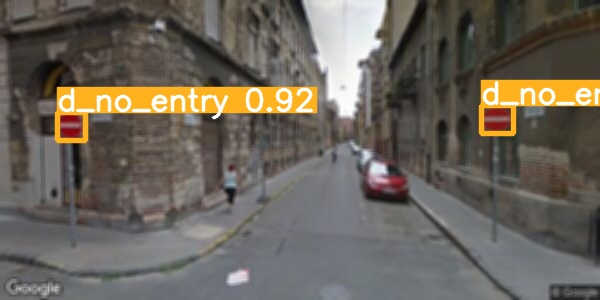d_no_entry: (479, 104, 512, 134), (56, 111, 83, 140)
